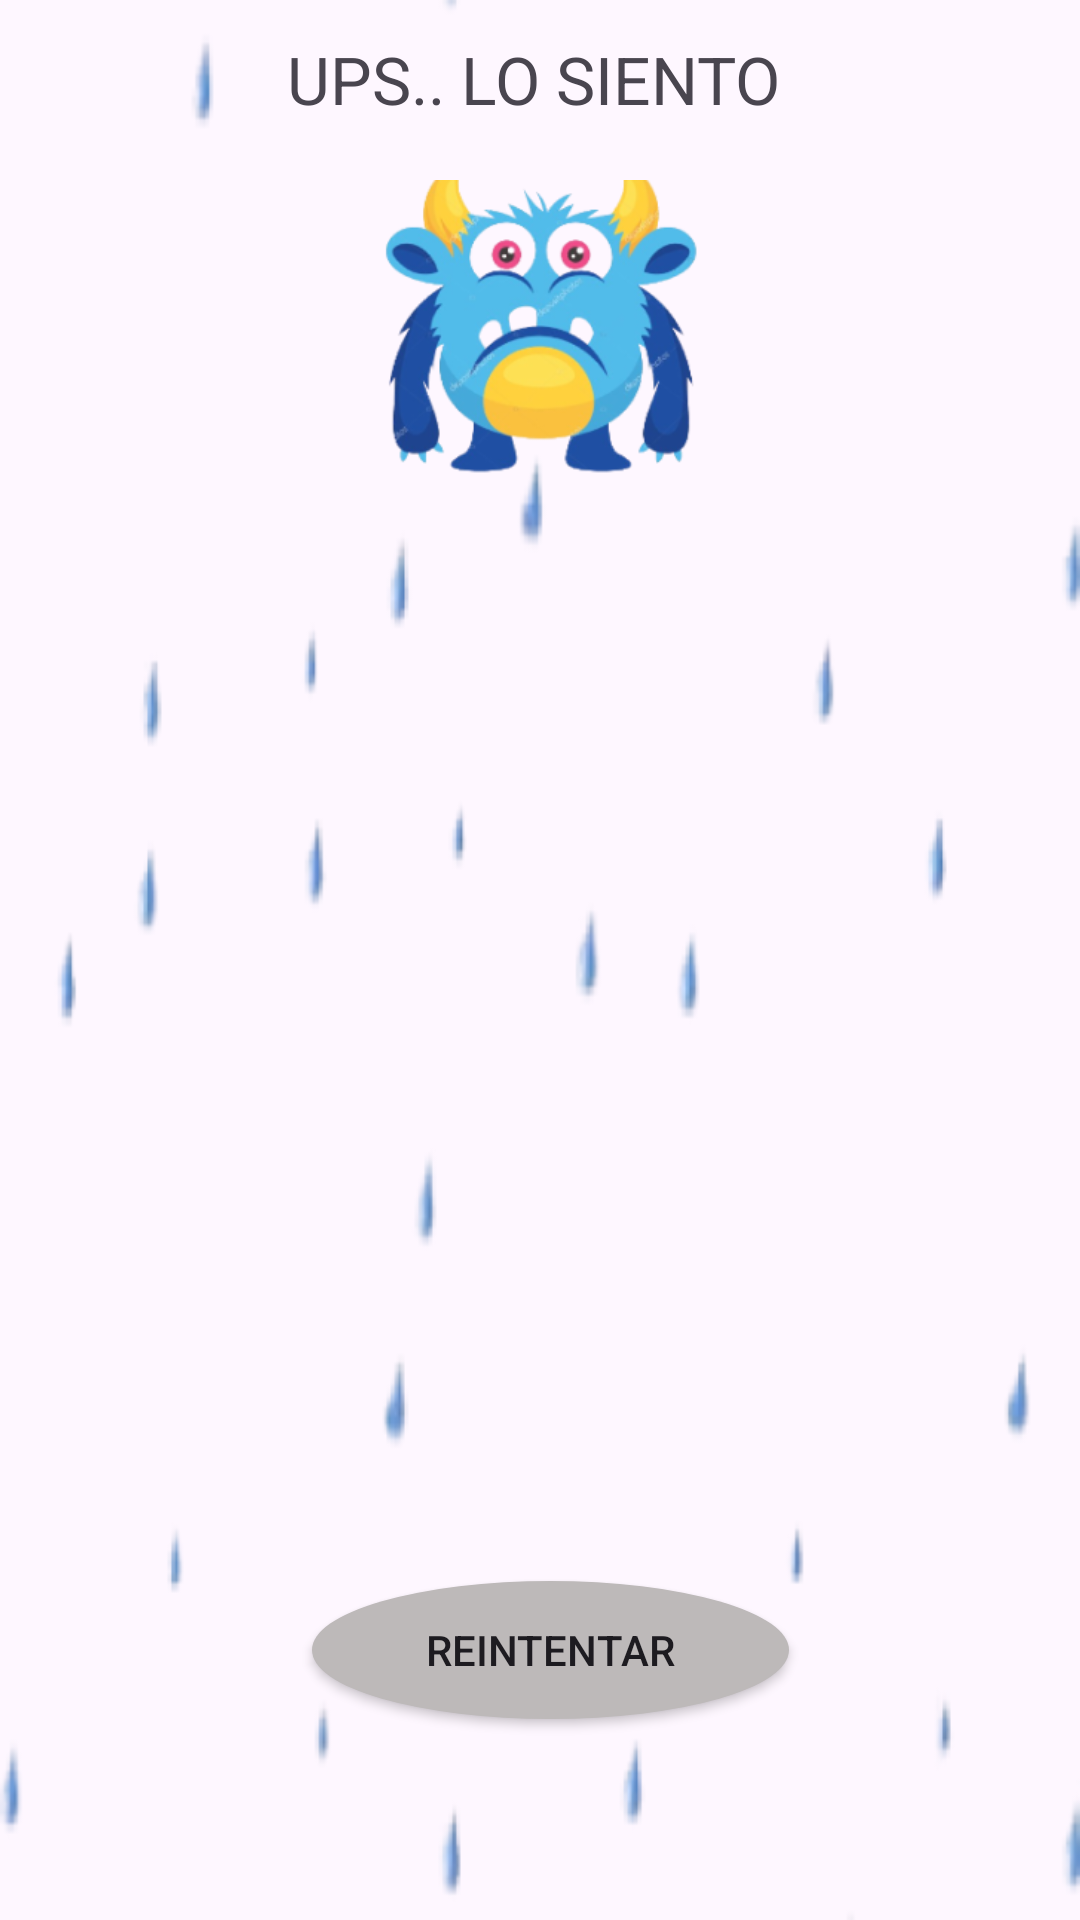

Named icons in this screenshot (1080 x 1920) and their centers, (x=x, y=y):
pop louser: (x=541, y=326)
